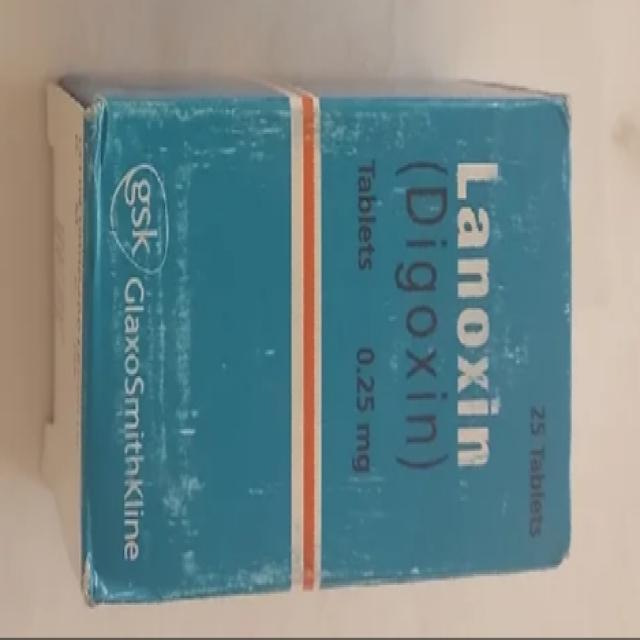drug-name: (453, 158, 502, 470)
